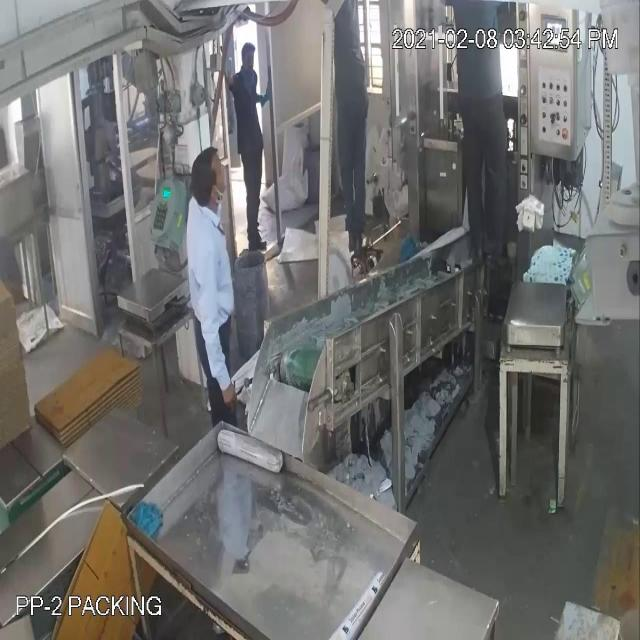No_Gloves: (189, 251, 245, 408)
